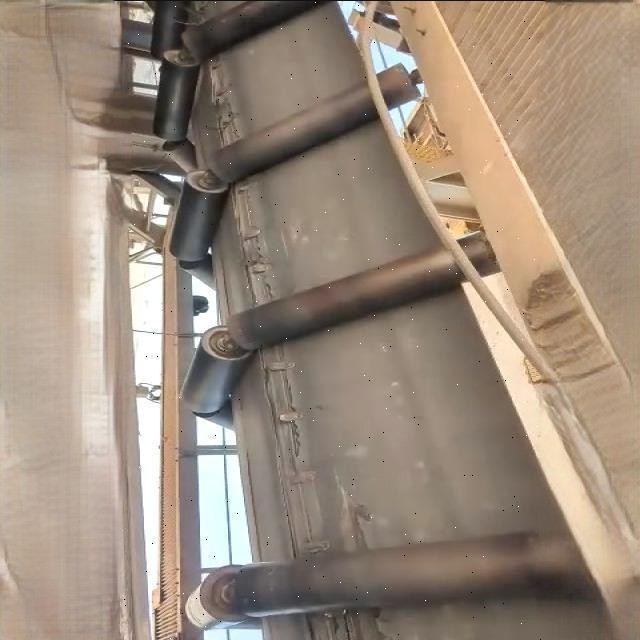Tear: (252, 341, 324, 558), (231, 178, 279, 308), (200, 50, 241, 152), (297, 606, 377, 640)
Wear: (317, 463, 377, 556)
